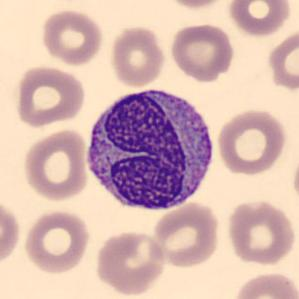Monocyte: (80, 82, 220, 216)
RBC: (20, 127, 90, 202), (215, 106, 288, 177), (93, 228, 167, 297), (12, 63, 88, 129), (149, 201, 222, 269), (224, 198, 297, 266), (21, 208, 91, 275), (169, 22, 236, 83), (39, 7, 105, 67), (108, 24, 168, 89), (226, 0, 293, 38), (267, 30, 299, 96), (231, 269, 298, 299), (0, 195, 22, 269), (161, 0, 232, 10), (290, 146, 299, 209)
